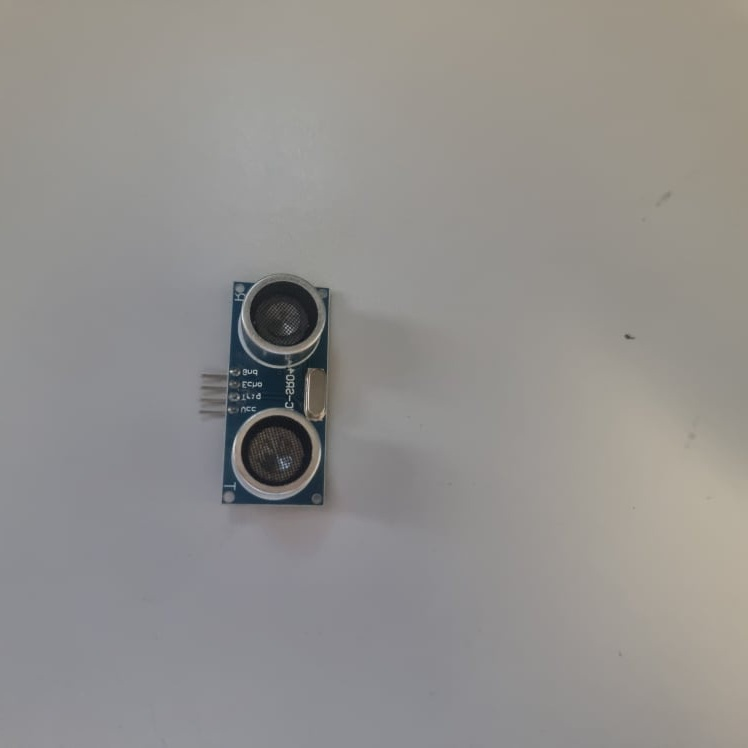SENSOR: (217, 276, 330, 505)
